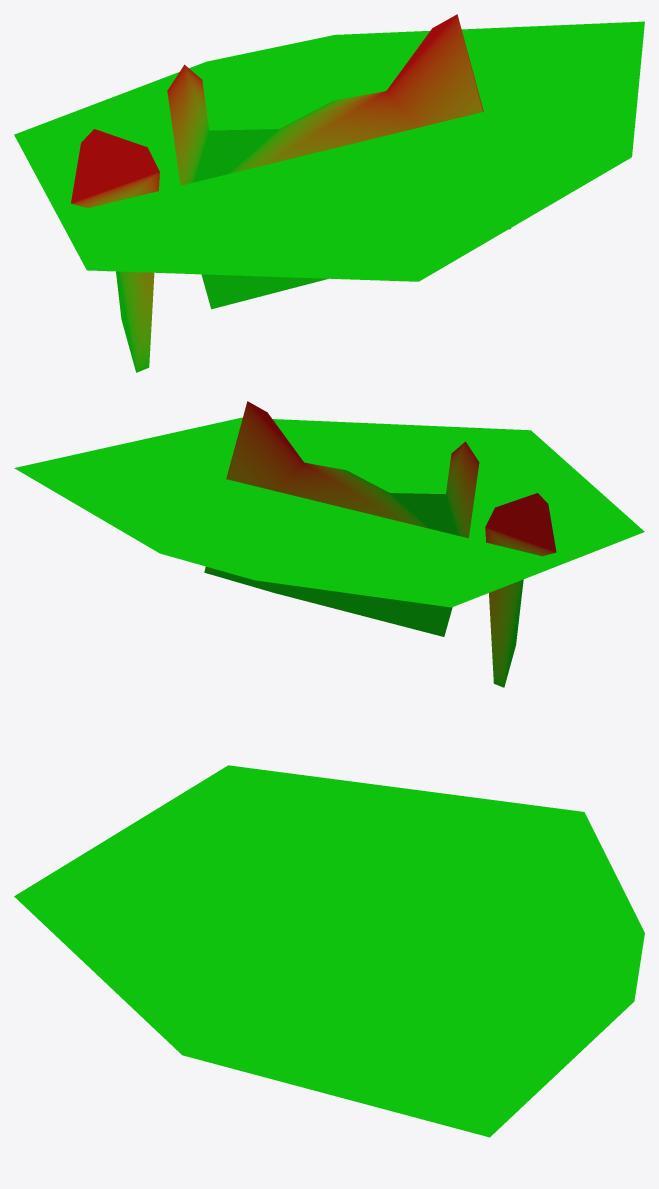
File: Var5_LOD4.fbx
The picture shows the model from 3 angles, top to bottom: view 1: azimuth 30°, elevation 25°; view 2: azimuth 150°, elevation 25°; view 3: azimuth 270°, elevation 25°; orthographic projection. The views are drawn at different scales.
Visible parts, largest first — view 1: _7e16_Var5_LOD4; view 2: _7e16_Var5_LOD4; view 3: _7e16_Var5_LOD4.
Boxes of the visible parts, box(x1,y1,x2,y2) form: _7e16_Var5_LOD4: box(14, 14, 644, 372); _7e16_Var5_LOD4: box(14, 401, 644, 687); _7e16_Var5_LOD4: box(14, 765, 644, 1137).
Size of the model in its own units: 216 by 90.88 by 155.
